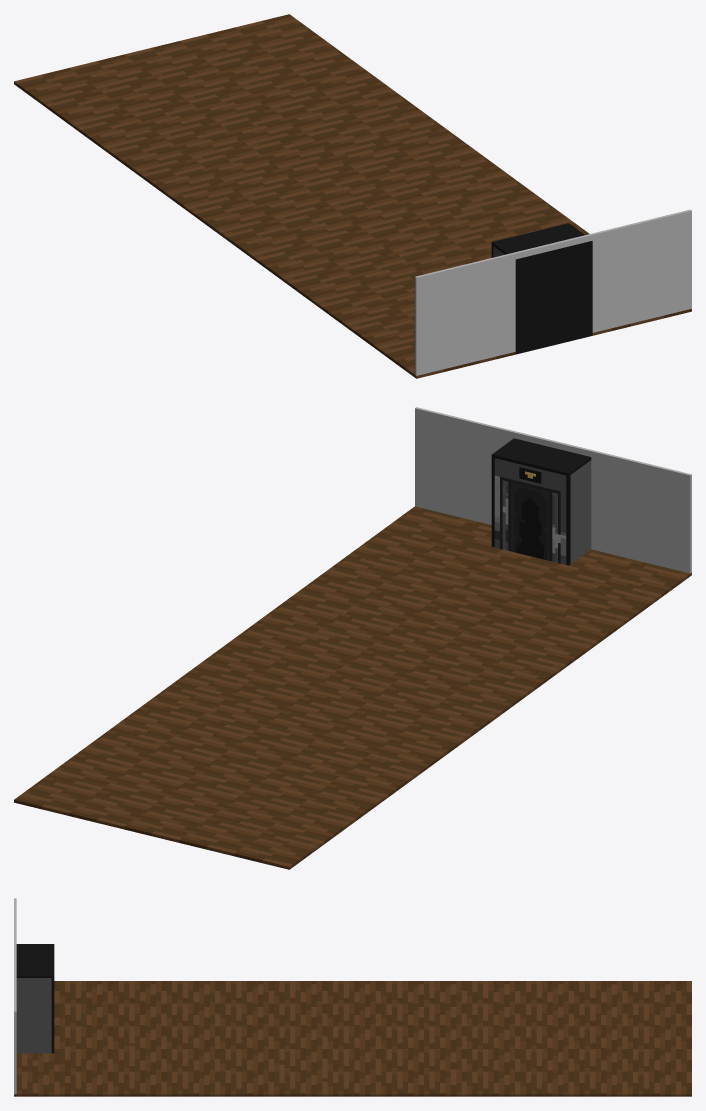
File: FinAscenceur2 1.obj
3 renders of one model, top to bottom at view 1: azimuth 30°, elevation 25°; view 2: azimuth 150°, elevation 25°; view 3: azimuth 270°, elevation 25°, orthographic. The views are drawn at different scales.
Bounding box in the file's own units: 10 × 3.5 × 25.3.
Materials: 1 (1 with a texture image).
